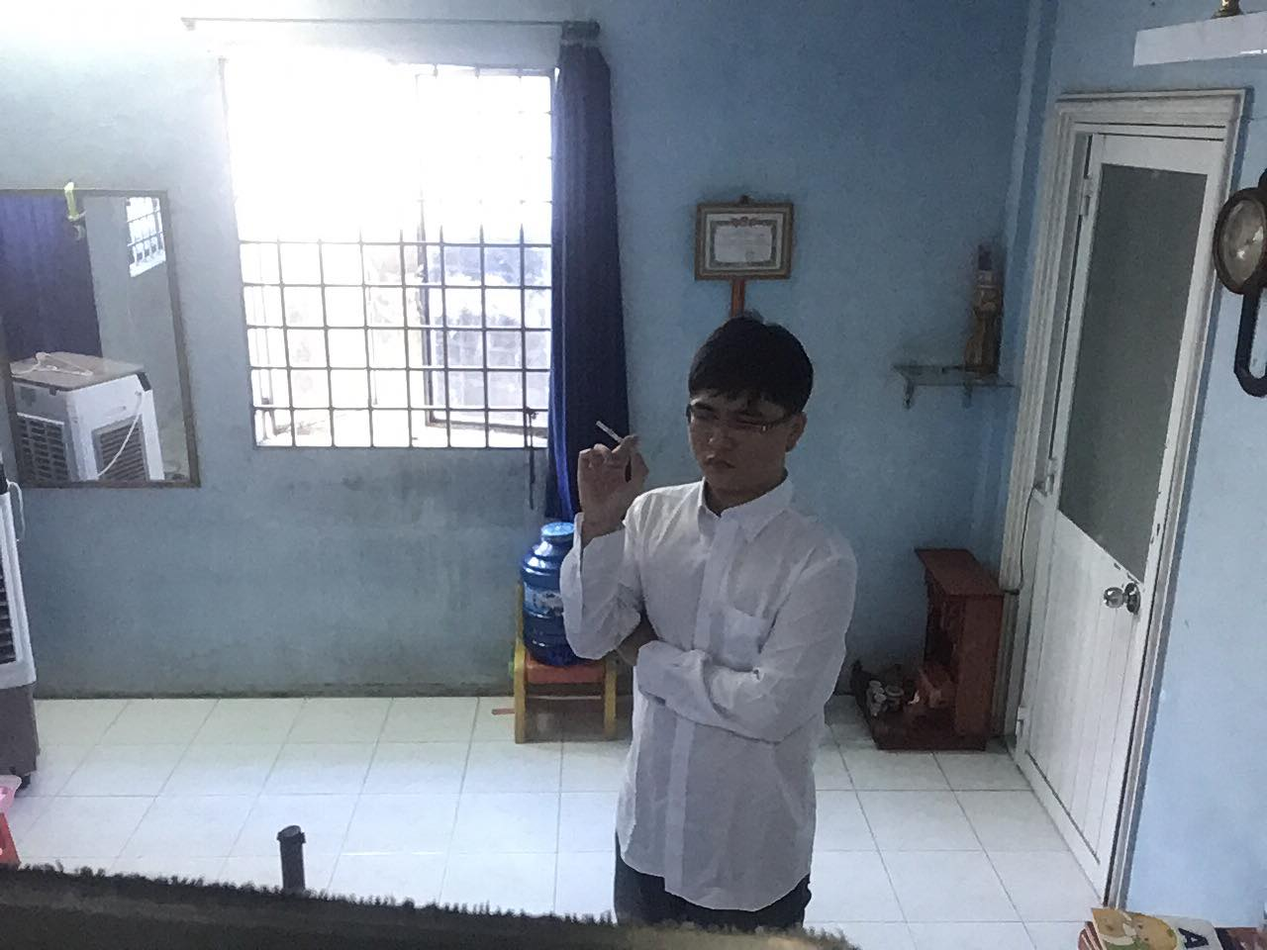cigarette: (590, 413, 634, 450)
person: (555, 304, 877, 942)
